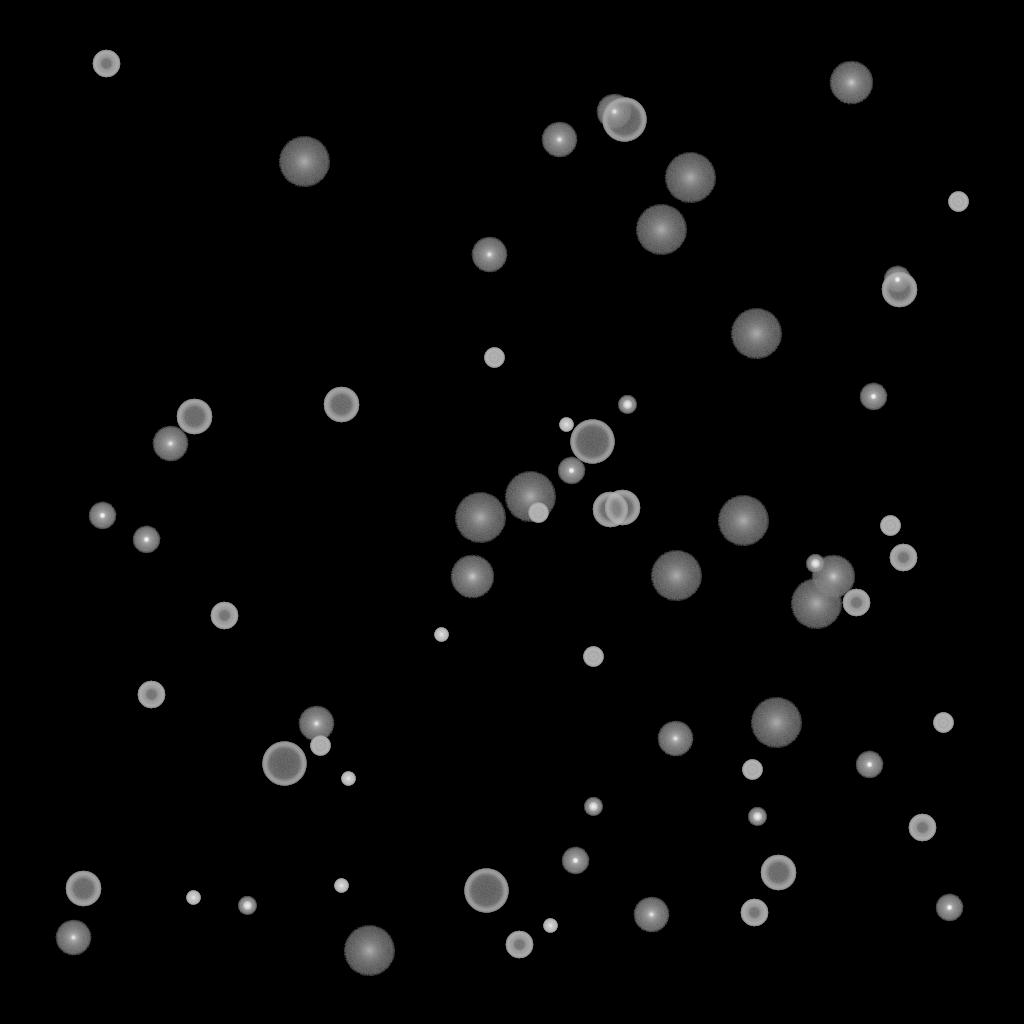depth:-10: (557, 457, 585, 485), (855, 751, 883, 779), (88, 502, 116, 530), (132, 526, 160, 554), (935, 894, 963, 922), (883, 266, 911, 294), (561, 847, 589, 875), (859, 383, 887, 411)
depth:-20: (618, 396, 636, 414), (238, 897, 256, 915), (584, 798, 602, 816), (806, 555, 824, 573), (748, 808, 766, 826)
depth:-30: (341, 772, 355, 786), (559, 418, 573, 432), (434, 628, 448, 642), (543, 919, 557, 933), (334, 879, 348, 893), (186, 891, 200, 905)
depth:-40: (528, 503, 548, 523), (742, 760, 762, 780), (310, 736, 330, 756), (484, 348, 504, 368), (880, 516, 900, 536), (948, 192, 968, 212), (583, 647, 603, 667), (933, 713, 953, 733)
depth:-50: (842, 589, 870, 617), (92, 50, 120, 78), (740, 899, 768, 927), (137, 681, 165, 709), (505, 931, 533, 959), (908, 814, 936, 842), (210, 602, 238, 630), (889, 544, 917, 572)
depth:-60: (323, 387, 359, 423), (760, 855, 796, 891), (176, 399, 212, 435), (604, 490, 640, 526), (592, 492, 628, 528), (881, 272, 917, 308), (65, 871, 101, 907)
depth:-70: (602, 98, 646, 142), (464, 869, 508, 913), (262, 742, 306, 786), (570, 420, 614, 464)
depth:0: (633, 897, 669, 933), (152, 426, 188, 462), (471, 237, 507, 273), (55, 920, 91, 956), (657, 721, 693, 757), (541, 122, 577, 158), (298, 706, 334, 742), (596, 94, 632, 130)
depth:10: (450, 555, 494, 599), (829, 61, 873, 105), (811, 555, 855, 599)
depth:20: (717, 496, 769, 546), (504, 472, 556, 522), (343, 926, 395, 976), (635, 205, 687, 255), (454, 493, 506, 543), (664, 153, 716, 203), (730, 309, 782, 359), (278, 137, 330, 187), (790, 579, 842, 629), (650, 551, 702, 601), (750, 698, 802, 748)
